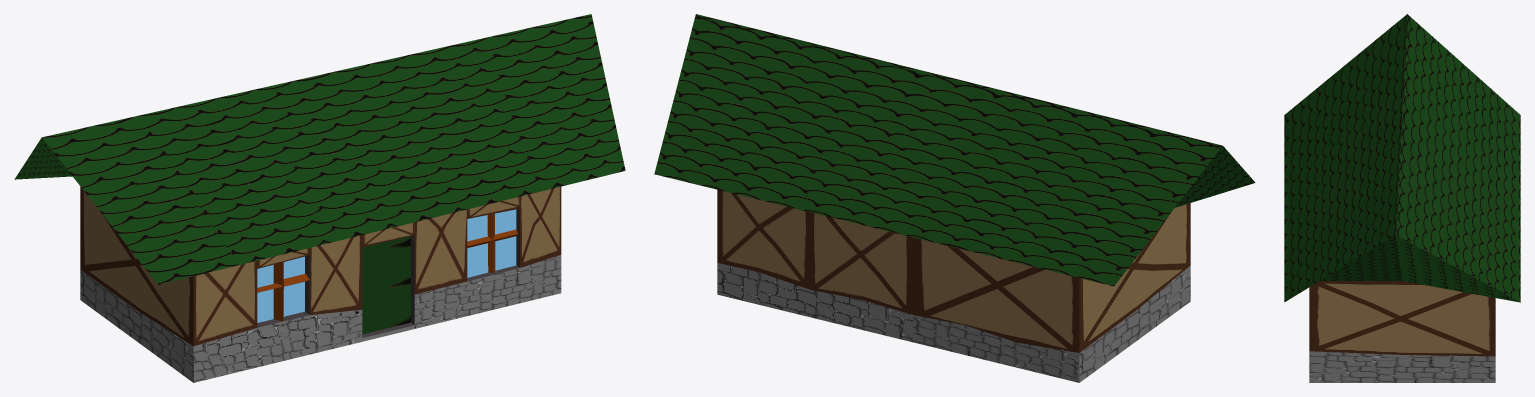
Rendered from talo.glb.
3 renders of one model, left to right at view 1: azimuth 30°, elevation 25°; view 2: azimuth 150°, elevation 25°; view 3: azimuth 270°, elevation 25°, orthographic. The views are drawn at different scales.
Visible parts, largest first — view 1: Cube; view 2: Cube; view 3: Cube.
Part boxes in pixels (x1,y1,x2,y2): Cube: (14,14,625,382); Cube: (654,14,1255,382); Cube: (1284,14,1520,382).
Bounding box in the file's own units: 8.11 × 3.21 × 3.73.
Materials: 6 (4 with a texture image).
